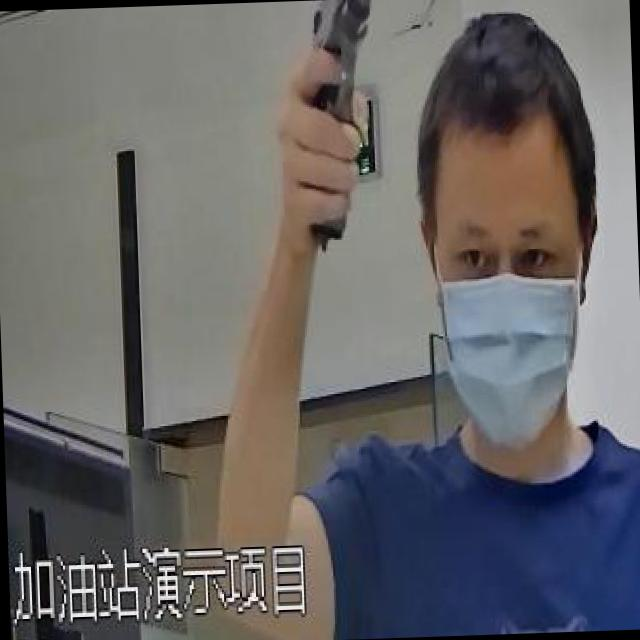Guns: (276, 0, 415, 247)
